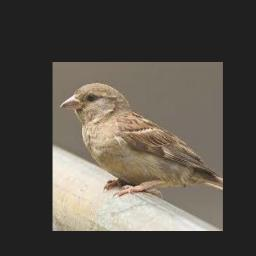Sparrow: (60, 82, 223, 197)
